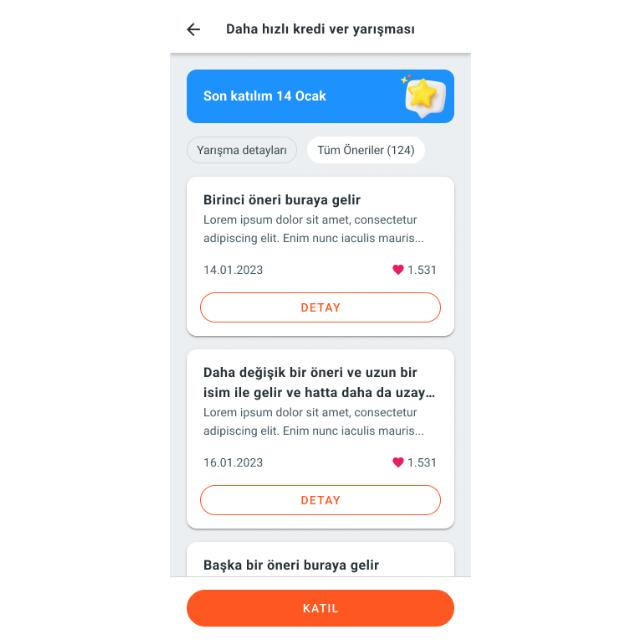QLabel: (200, 365, 436, 401), (201, 212, 427, 248), (199, 405, 427, 439), (198, 555, 380, 573), (215, 22, 418, 36), (202, 192, 364, 208), (200, 88, 326, 104), (316, 142, 414, 158), (194, 145, 288, 157), (200, 456, 264, 469), (296, 298, 342, 316), (202, 265, 262, 275), (296, 493, 340, 505), (300, 603, 338, 613), (408, 458, 438, 468), (408, 265, 436, 275)
VAppBar: (170, 1, 470, 54)
VBtn: (186, 589, 454, 627), (198, 484, 440, 516), (200, 292, 440, 324)
VCard: (185, 348, 455, 530), (186, 175, 454, 338), (184, 70, 456, 124), (187, 540, 455, 576)
VChip: (306, 135, 426, 165), (186, 134, 296, 164)
VFooter: (170, 578, 470, 640)
VIcon: (185, 22, 199, 36), (390, 263, 404, 277), (392, 454, 404, 470)
VImg: (401, 73, 449, 121)
